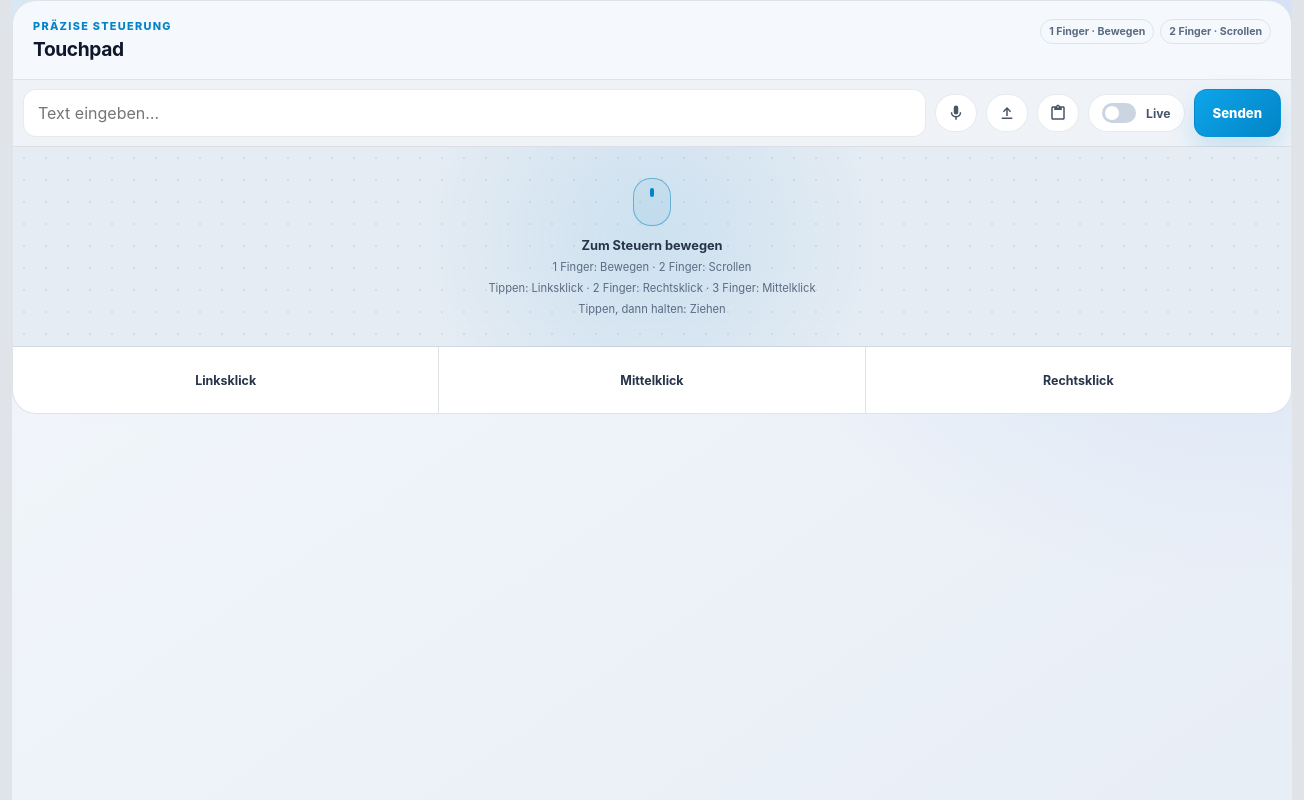
Test case: TouchpadComponent › asks for a newer app instead of HTTPS in an app without the speech bridge
Click the switch with class "touchpad-text__mic" at [956, 113], box [935,94,977,132]
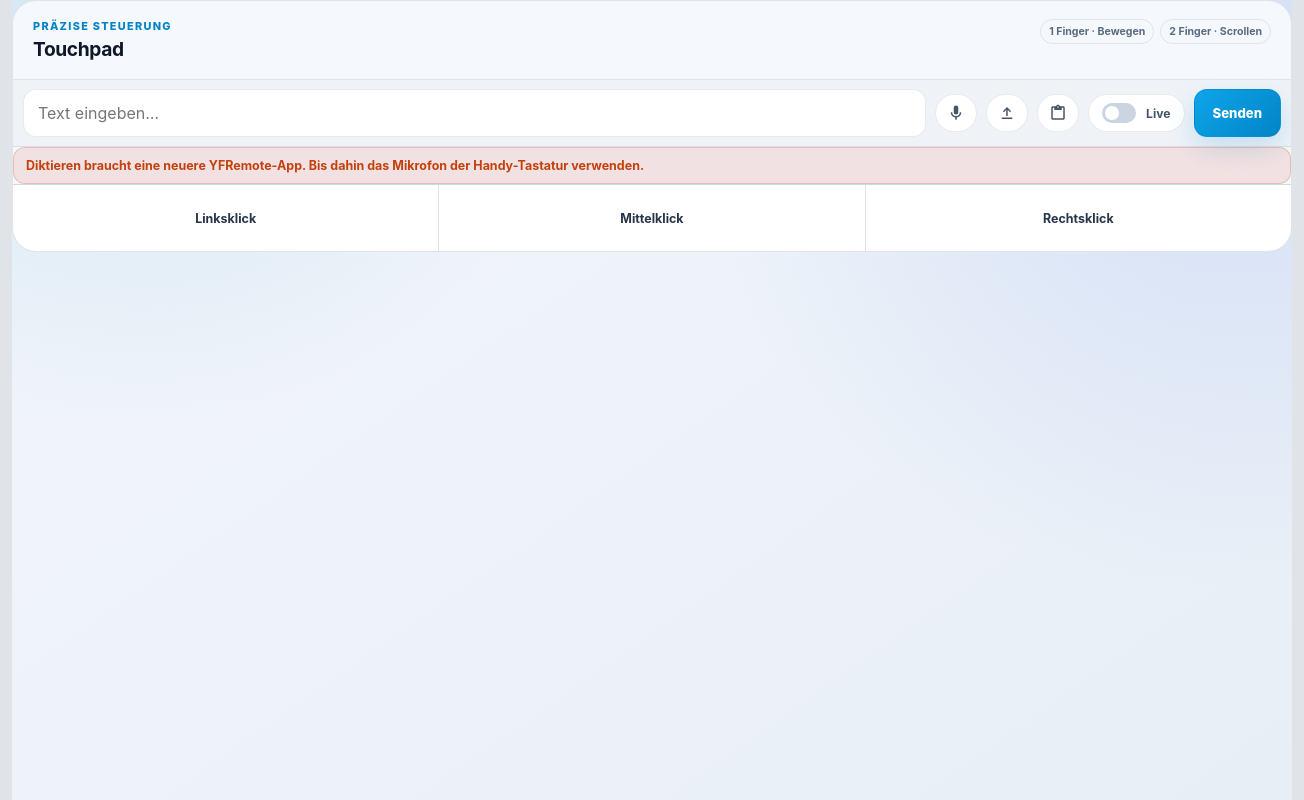
Expected: the text "neuere YFRemote-App" is shown, [26,158,644,173]
